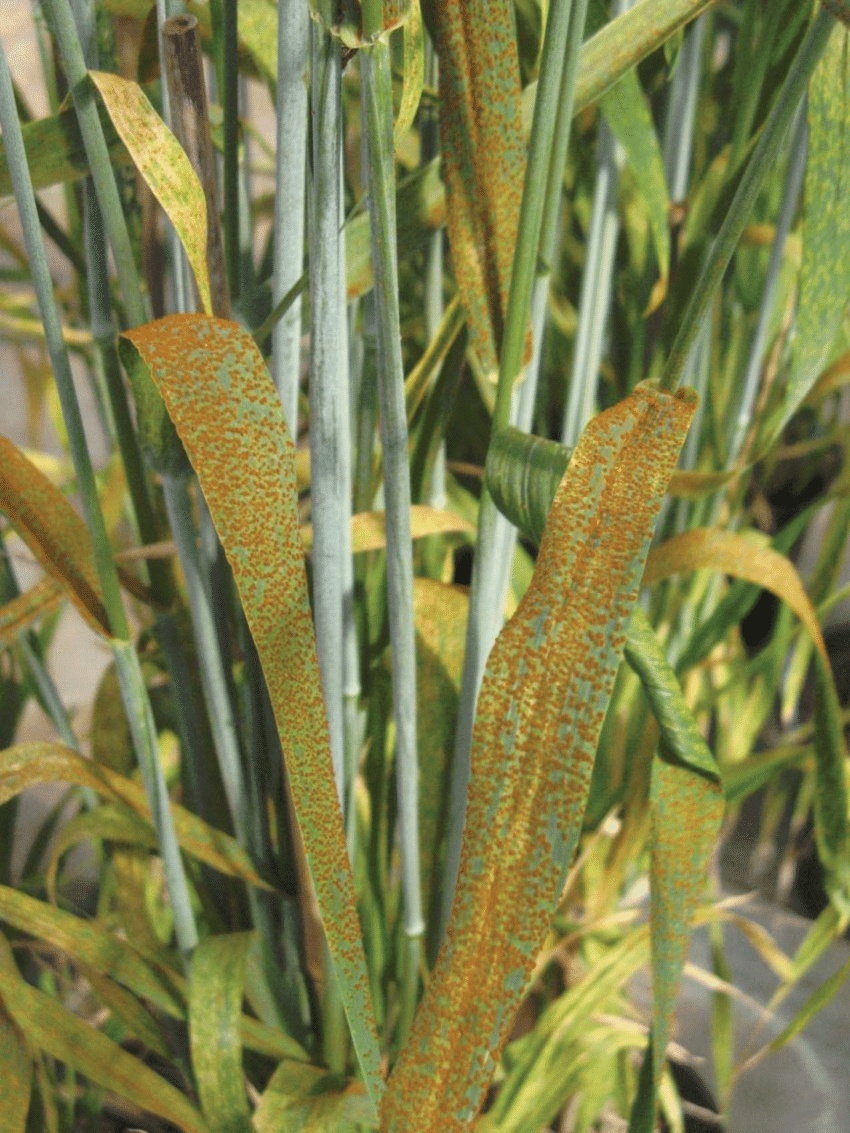Leaf Rust: (413, 393, 701, 1059)
